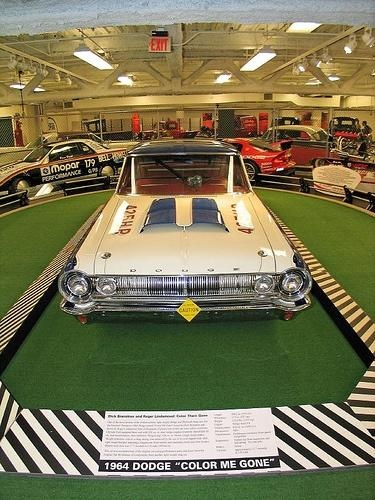car: (61, 139, 319, 325), (3, 140, 131, 192), (206, 139, 297, 181), (259, 126, 352, 167)
